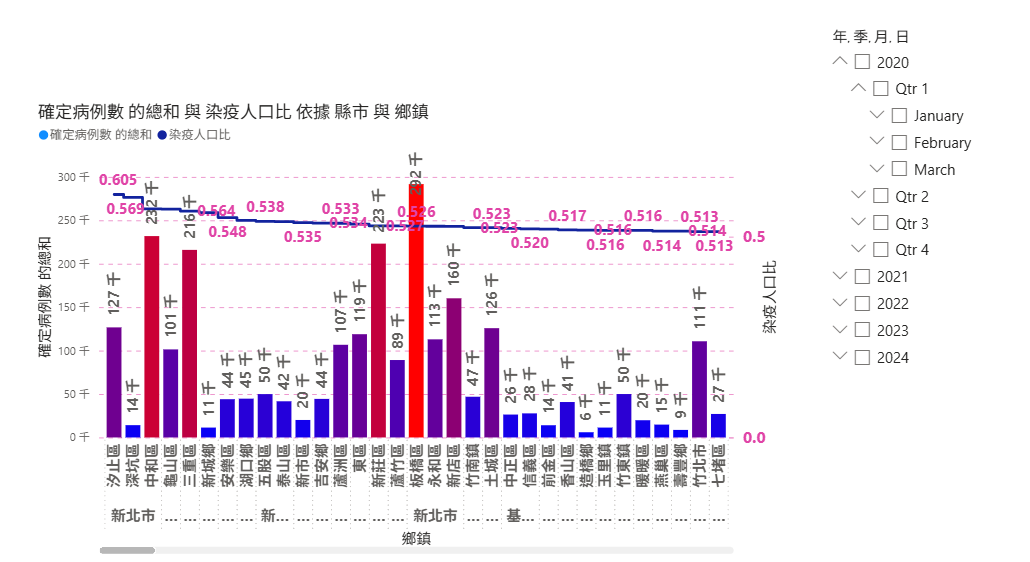

The dashboard page shown, as its layout file describes it:
{"tool":"powerbi","page":{"name":"9.染疫人口比","canvas":[1280,720],"ordinal":9},"visuals":[{"type":"lineClusteredColumnComboChart","fields":{"Y":["Sum(Day_Confirmation_Age_County_Gender_19CoV.確定病例數)"],"Y2":["Day_Confirmation_Age_County_Gender_19CoV.染疫人口比"],"Category":["縣市鄉鎮人口數.縣市","縣市鄉鎮人口數.鄉鎮"]},"box":[100.4,187.8,808,497.1],"z":0},{"type":"slicer","fields":{"Values":["Day_Confirmation_Age_County_Gender_19CoV.個案研判日.變化.日期階層.年","Day_Confirmation_Age_County_Gender_19CoV.個案研判日.變化.日期階層.季","Day_Confirmation_Age_County_Gender_19CoV.個案研判日.變化.日期階層.月","Day_Confirmation_Age_County_Gender_19CoV.個案研判日.變化.日期階層.日"]},"box":[950.5,103.6,328.7,497.1],"z":1}]}

Visuals, with their boxes on the page's 1280x720 design canvas (x1, y1, x2, y2). These are canvas units, not pixel positions in the 1030x562 screenshot, which may show the page scaled, cropped or inside an application window:
lineClusteredColumnComboChart - Sum(Day_Confirmation_Age_County_Gender_19CoV.確定病例數) x Day_Confirmation_Age_County_Gender_19CoV.染疫人口比: {"x1": 100, "y1": 188, "x2": 908, "y2": 685}
slicer - Day_Confirmation_Age_County_Gender_19CoV.個案研判日.變化.日期階層.年 x Day_Confirmation_Age_County_Gender_19CoV.個案研判日.變化.日期階層.季: {"x1": 950, "y1": 104, "x2": 1279, "y2": 601}
